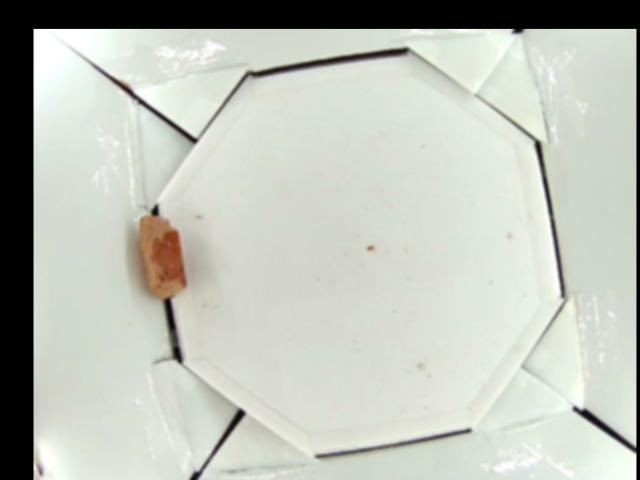Brisk: (138, 215, 189, 301)
